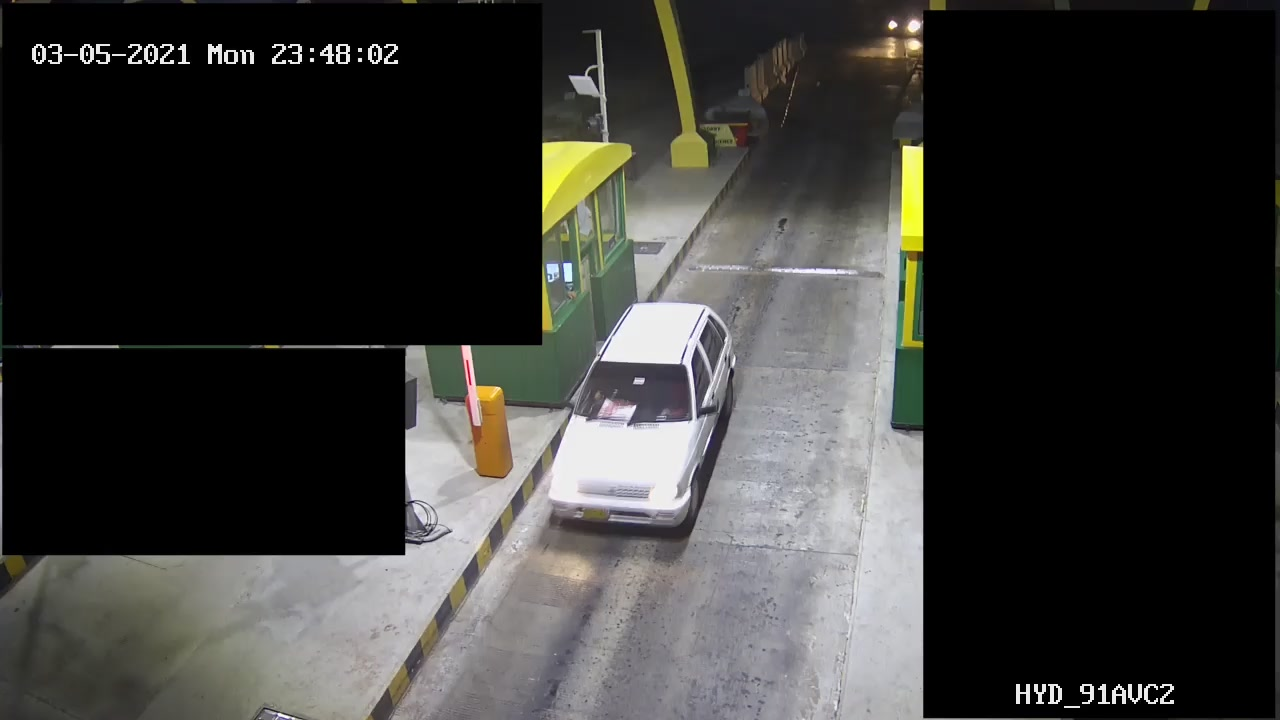F1: (528, 300, 745, 543)
